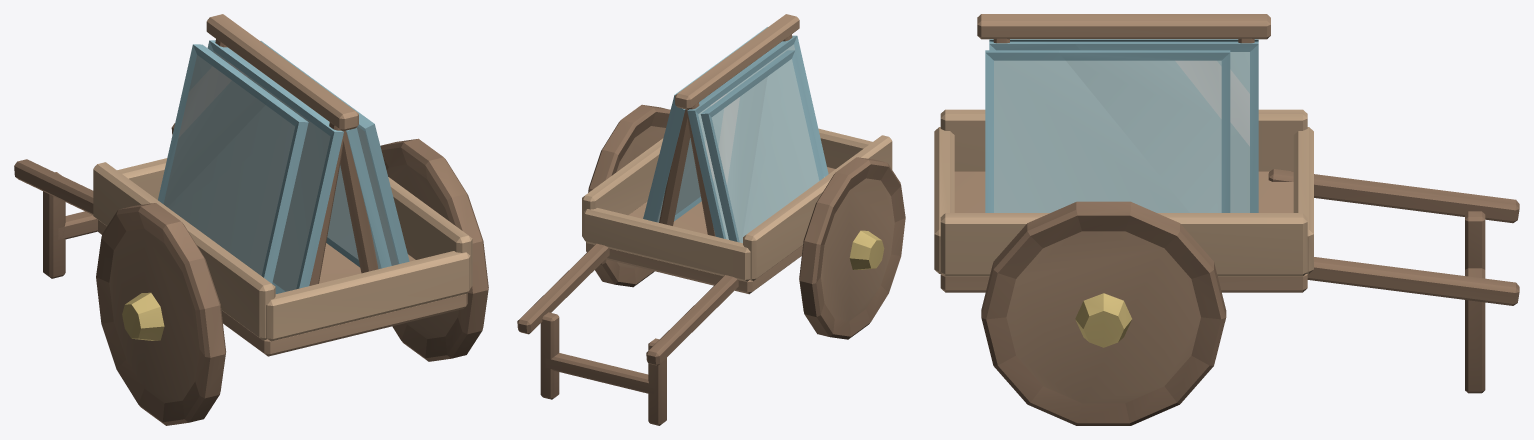
File: glass-cart.glb
3 renders of one model, left to right at view 1: azimuth 30°, elevation 25°; view 2: azimuth 150°, elevation 25°; view 3: azimuth 270°, elevation 25°, orthographic. The views are drawn at different scales.
Parts seen in each view (by area): view 1: glass-cart; view 2: glass-cart; view 3: glass-cart.
Boxes of the visible parts, <box> form: glass-cart: <box>14,14,488,425</box>; glass-cart: <box>517,14,905,425</box>; glass-cart: <box>934,14,1519,425</box>.
Size of the model in its own units: 0.9799 by 0.915 by 1.43.
